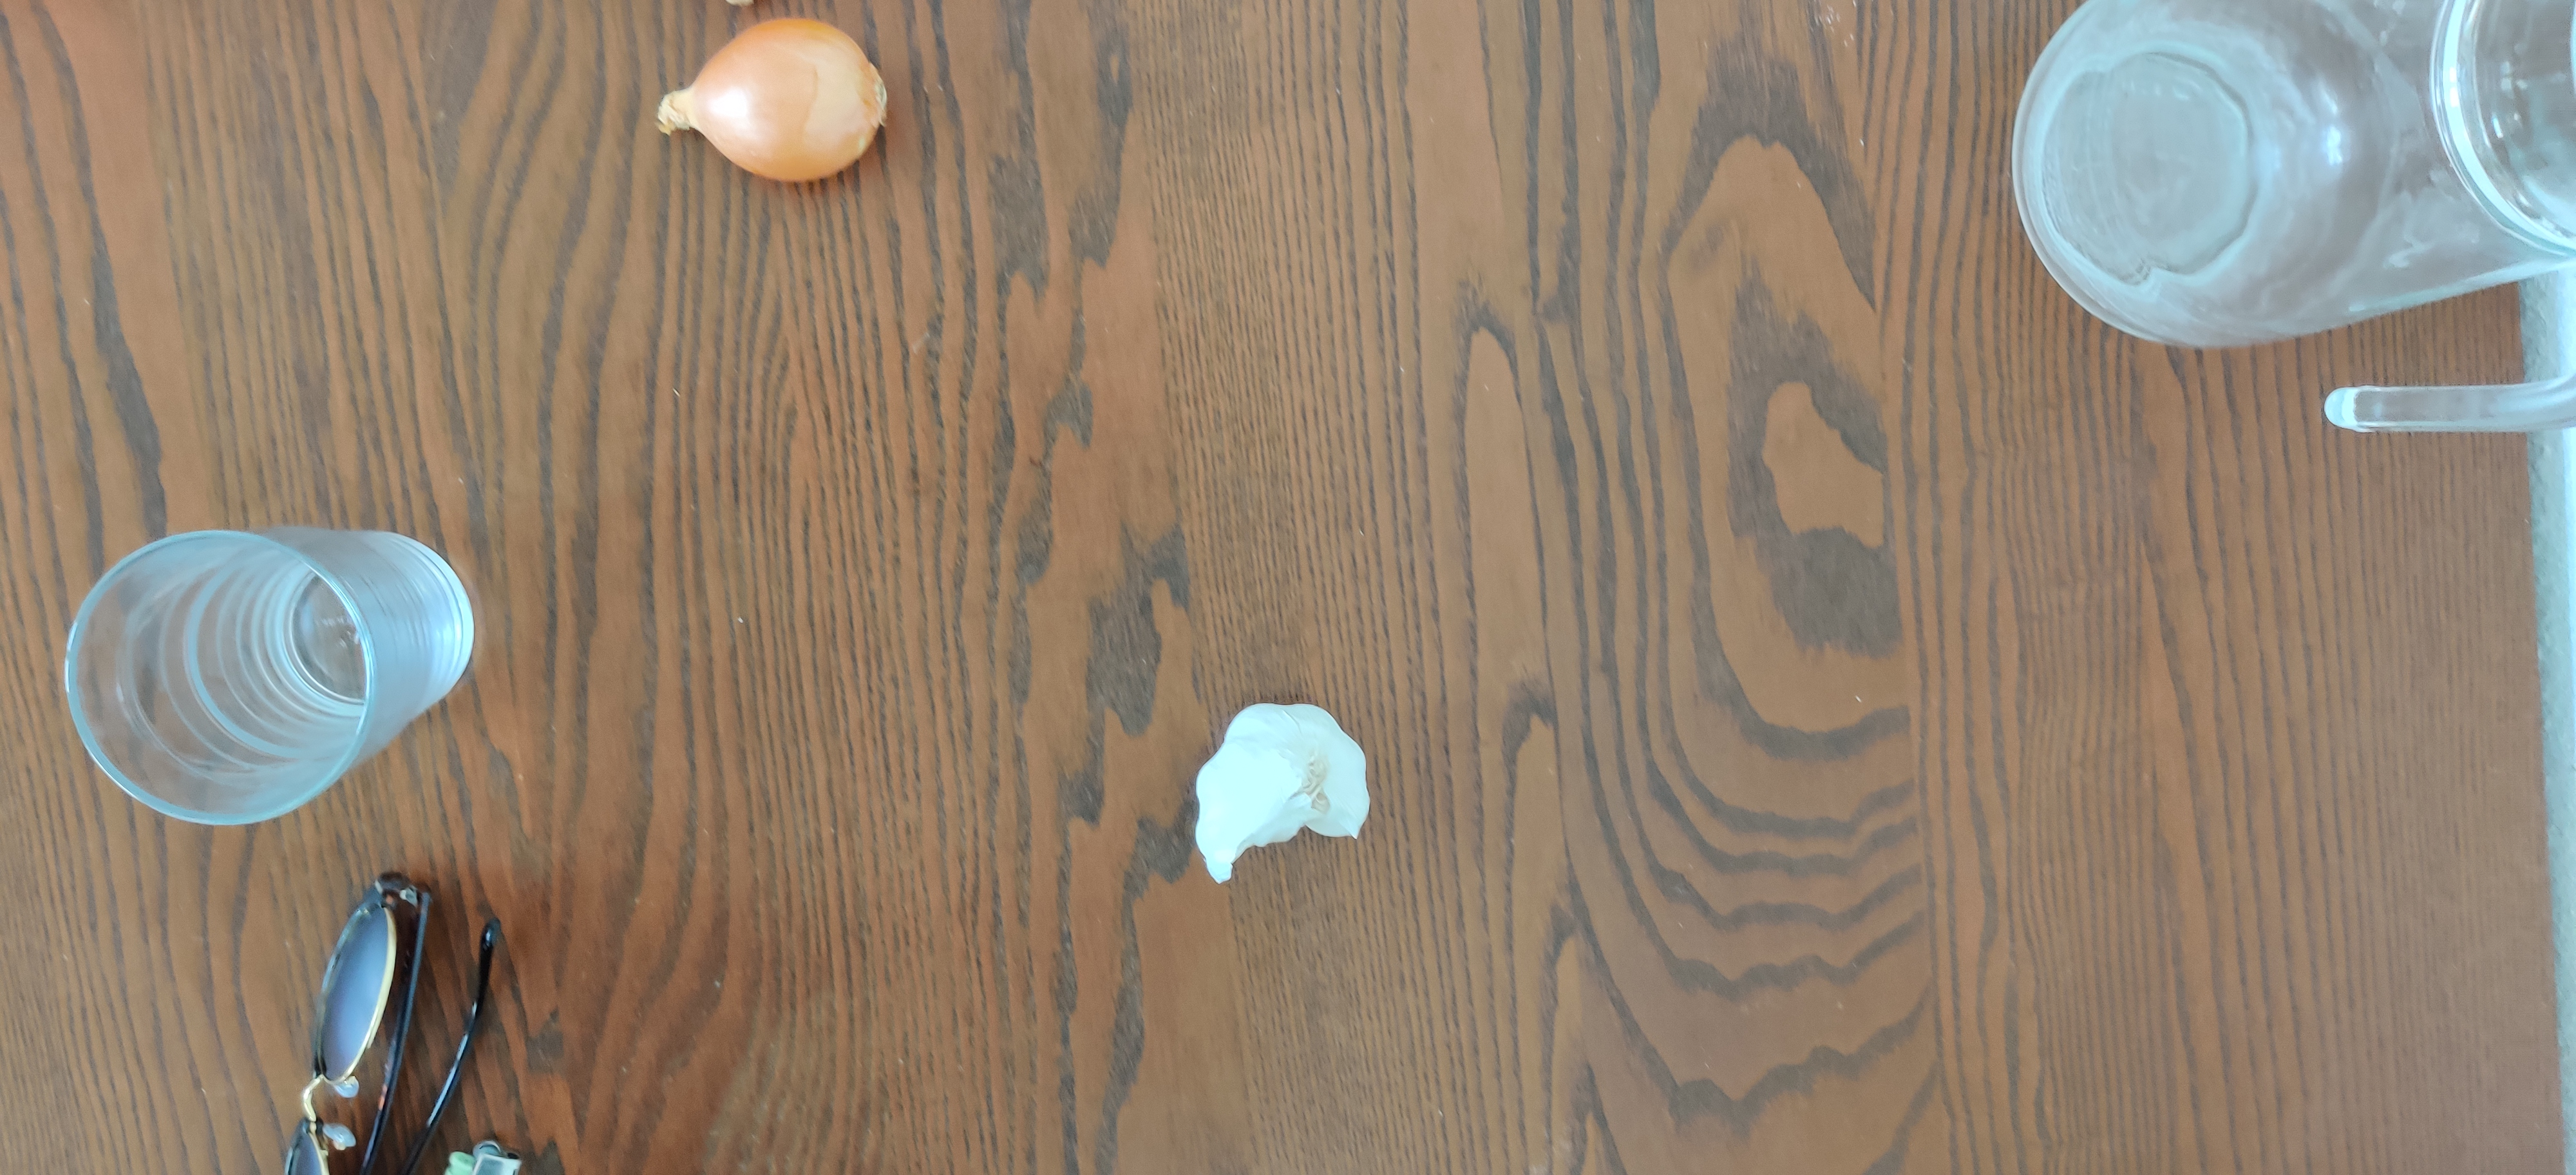Knoblauch: (1196, 702, 1373, 884)
